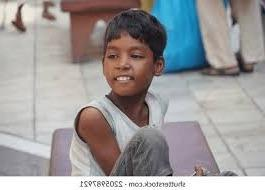Human: (64, 8, 202, 173)
